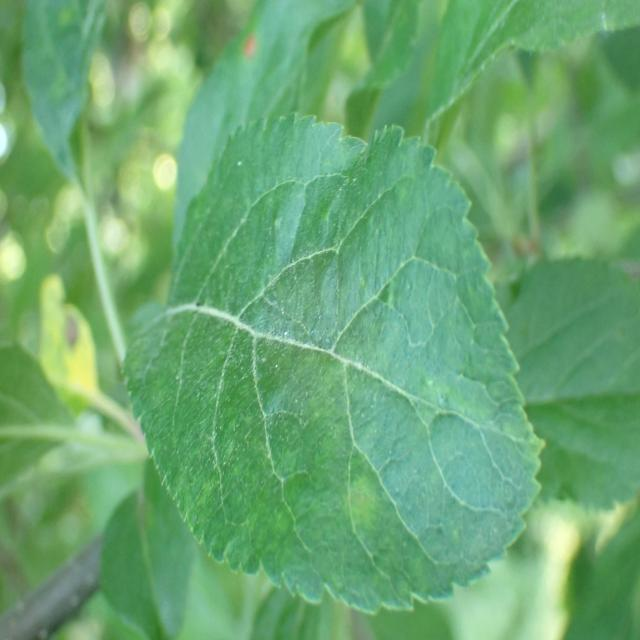scab: (154, 160, 408, 566)
